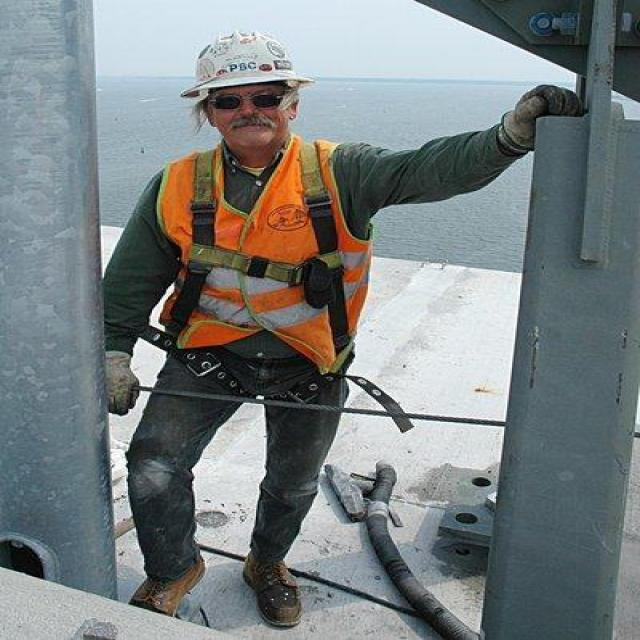Vest: (141, 136, 374, 380)
